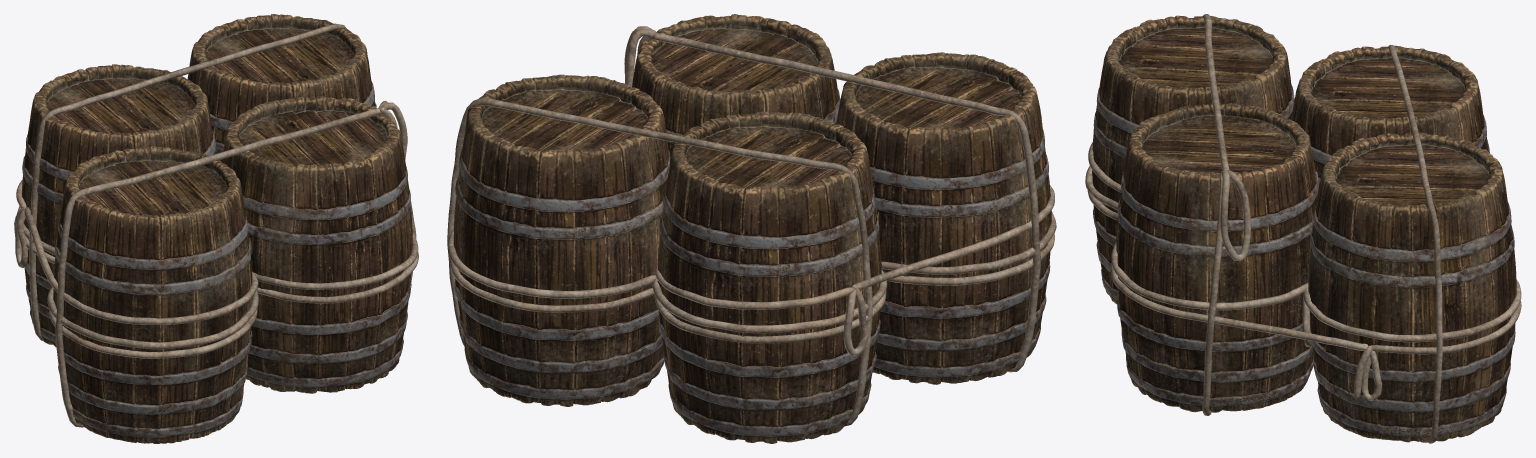
The model's file is met-barrel01-set01.glb.
3 views of the same model, side by side, from view 1: azimuth 30°, elevation 25°; view 2: azimuth 150°, elevation 25°; view 3: azimuth 270°, elevation 25° (orthographic). The views are drawn at different scales.
Parts seen in each view (by area): view 1: SM_MET_BarrelSet01_c1_LOD0; view 2: SM_MET_BarrelSet01_c1_LOD0; view 3: SM_MET_BarrelSet01_c1_LOD0.
Boxes of the visible parts, x1,y1,x2,y2 form: SM_MET_BarrelSet01_c1_LOD0: [14, 14, 418, 443]; SM_MET_BarrelSet01_c1_LOD0: [447, 14, 1056, 443]; SM_MET_BarrelSet01_c1_LOD0: [1085, 14, 1521, 443].
Bounding box in the file's own units: 1.51 × 0.8315 × 1.32.
Materials: 1 (1 with a texture image).
